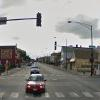Crosswalk: (6, 88, 98, 100)
